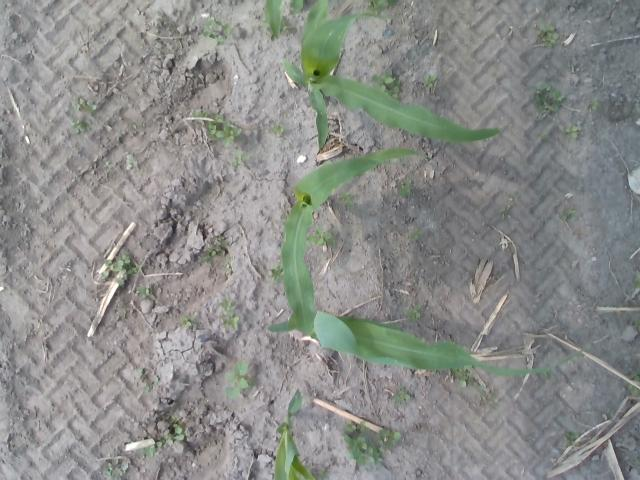Maize: (282, 0, 510, 150), (282, 147, 427, 336), (268, 312, 592, 377), (274, 389, 316, 480), (266, 0, 304, 39)
Weeds: (225, 360, 249, 398), (537, 84, 566, 113), (98, 259, 126, 286), (350, 446, 382, 466), (216, 123, 242, 144), (378, 428, 400, 452), (104, 459, 129, 480), (372, 68, 397, 89), (308, 228, 334, 246), (344, 434, 367, 452), (169, 413, 184, 440), (122, 252, 140, 274), (367, 0, 396, 12), (202, 243, 225, 258), (232, 148, 251, 166), (221, 312, 240, 330), (338, 192, 356, 210), (156, 429, 174, 447), (396, 178, 412, 198), (390, 391, 410, 404), (456, 371, 472, 387), (564, 432, 580, 448), (218, 297, 234, 312), (180, 314, 196, 328), (216, 20, 232, 34), (202, 19, 215, 36), (408, 304, 420, 322), (538, 22, 556, 34), (268, 123, 284, 136), (136, 284, 150, 298), (144, 378, 158, 392), (565, 124, 578, 139), (562, 208, 576, 221), (71, 120, 84, 134), (270, 265, 282, 280), (193, 110, 210, 120), (126, 154, 136, 171), (358, 421, 370, 434), (85, 100, 97, 112), (410, 228, 422, 240), (546, 32, 558, 44), (425, 75, 437, 87), (144, 446, 156, 457), (345, 422, 356, 434), (318, 469, 329, 480), (500, 206, 510, 218), (74, 98, 84, 110), (206, 123, 216, 134), (542, 130, 552, 140), (390, 86, 400, 96), (210, 115, 223, 122), (134, 368, 143, 378), (214, 36, 223, 45), (630, 386, 638, 396), (592, 98, 598, 111), (634, 319, 640, 331), (478, 384, 486, 392), (633, 373, 640, 382), (105, 162, 114, 169), (226, 265, 232, 275), (514, 192, 521, 200), (634, 279, 640, 288), (218, 235, 225, 242)
